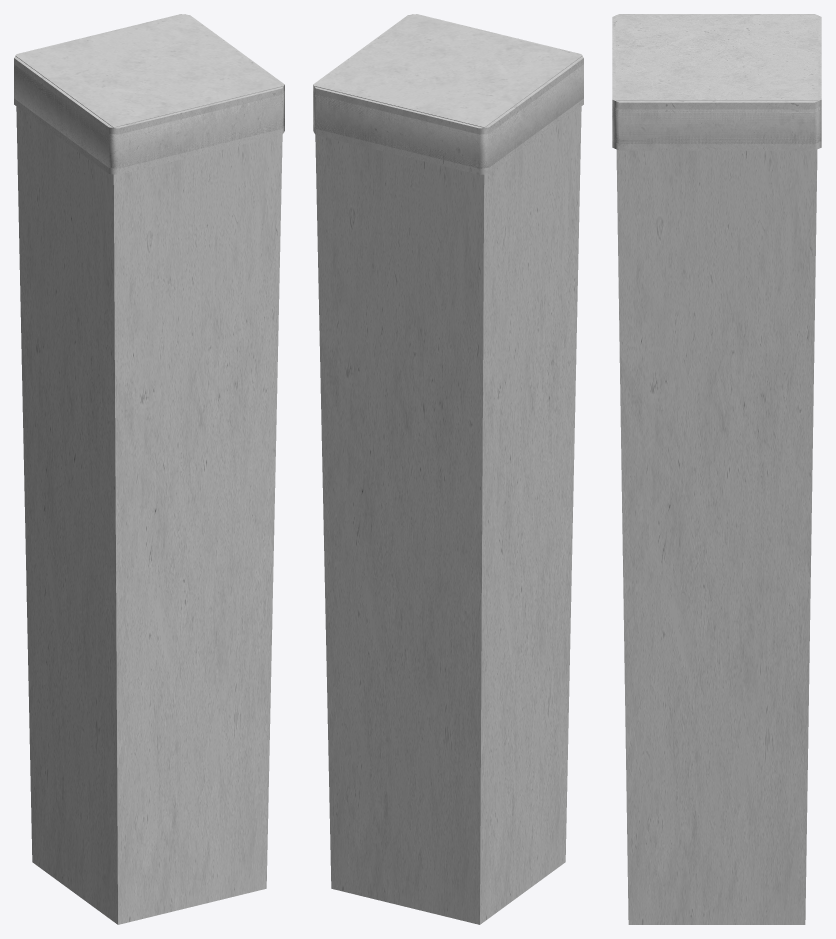
The model's file is si_concrete_pillar_mod.DAE.
3 views of the same model, side by side, from view 1: azimuth 30°, elevation 25°; view 2: azimuth 150°, elevation 25°; view 3: azimuth 270°, elevation 25° (orthographic). The views are drawn at different scales.
Visible parts, largest first — view 1: Colmesh-1, si_concrete_pillar_mod120, si_concrete_pillar_mod250; view 2: Colmesh-1, si_concrete_pillar_mod250, si_concrete_pillar_mod120; view 3: Colmesh-1, si_concrete_pillar_mod120, si_concrete_pillar_mod250.
Boxes of the visible parts, x1,y1,x2,y2 form: Colmesh-1: (15, 14, 283, 924); si_concrete_pillar_mod120: (14, 14, 284, 174); si_concrete_pillar_mod250: (14, 64, 284, 168); Colmesh-1: (314, 14, 582, 924); si_concrete_pillar_mod250: (313, 64, 583, 168); si_concrete_pillar_mod120: (313, 14, 583, 174); Colmesh-1: (615, 15, 818, 924); si_concrete_pillar_mod120: (612, 14, 821, 150); si_concrete_pillar_mod250: (612, 106, 821, 144).
Bounding box in the file's own units: 59.32 × 59.32 × 259.
